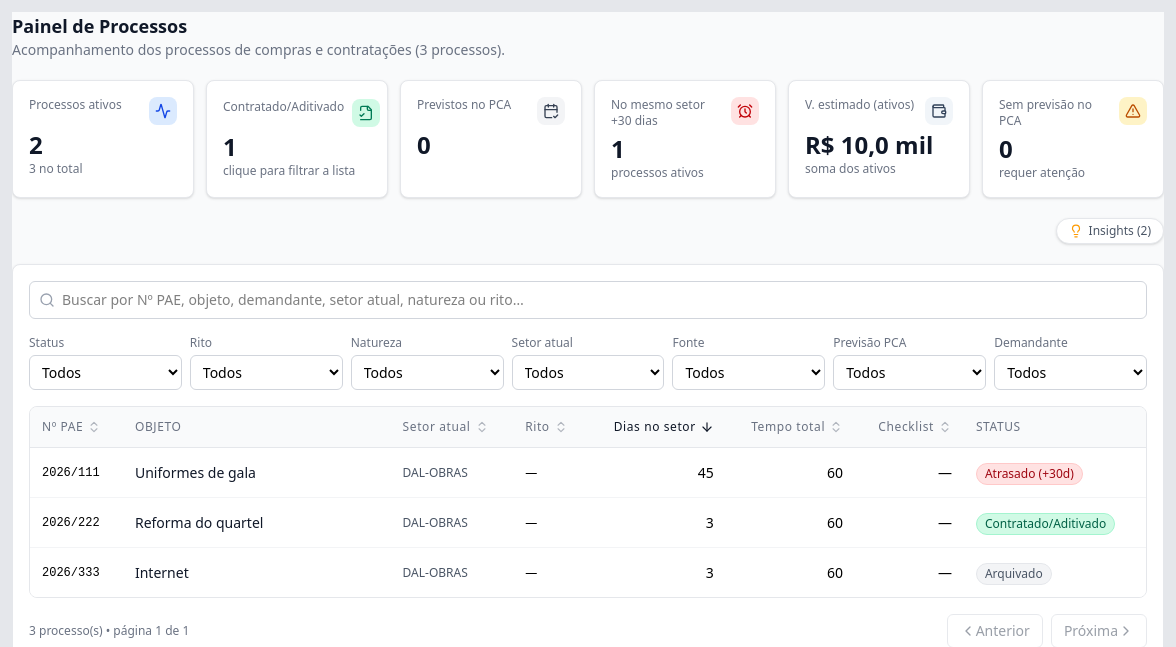
Test: PainelProcessos › a busca filtra a lista
Replace the text in the field named "Buscar processos" with "reforma": (588, 300) [29,281,1147,319]
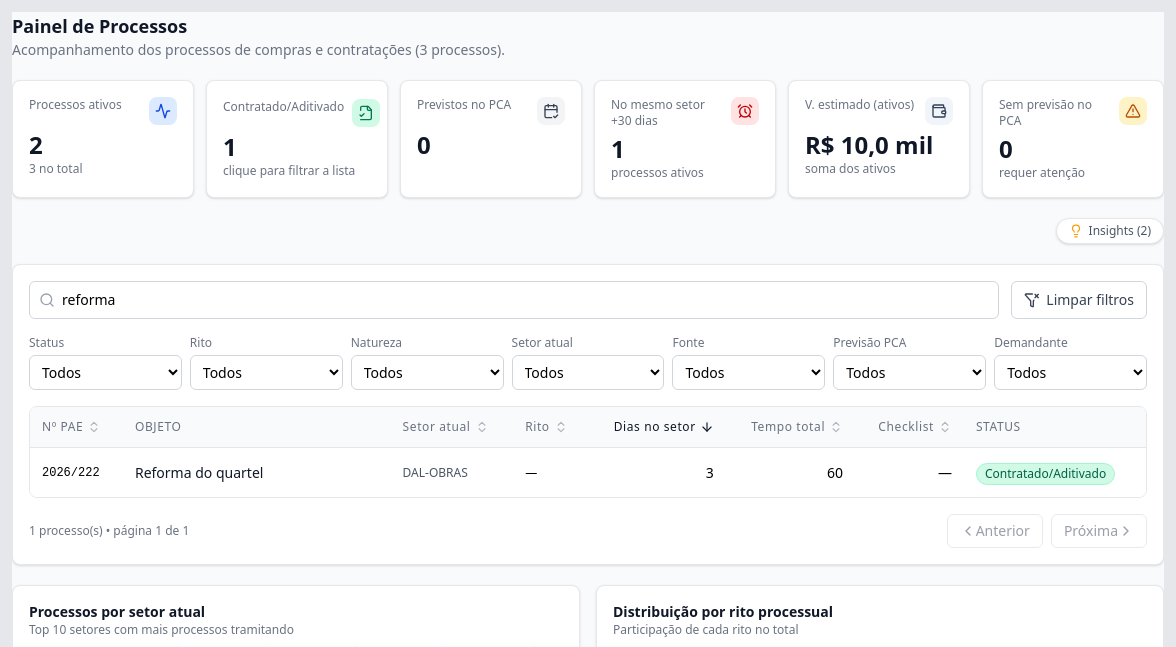
Expected: the text "2026/222" is shown, [30,448,123,497]
Now the text "2026/111" is gone
Now the text "1 processo(s) • página 1 de 1" is shown, box [29,523,189,539]
